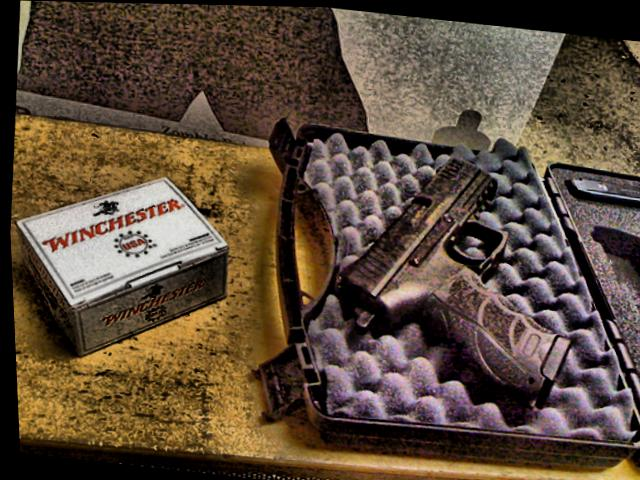pistol: (322, 144, 587, 411)
